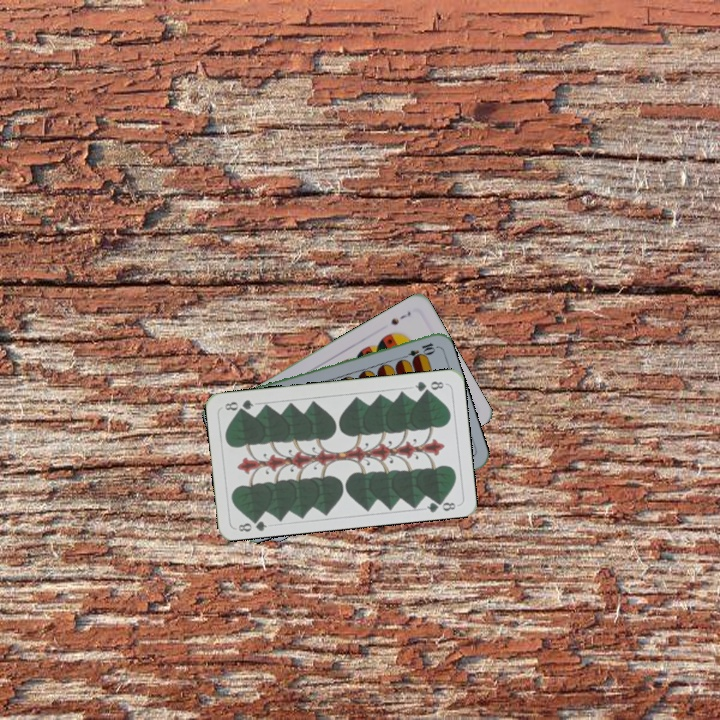E10: (398, 339, 437, 363)
G8: (234, 513, 269, 534), (411, 377, 446, 395)
S7: (387, 307, 413, 328)
